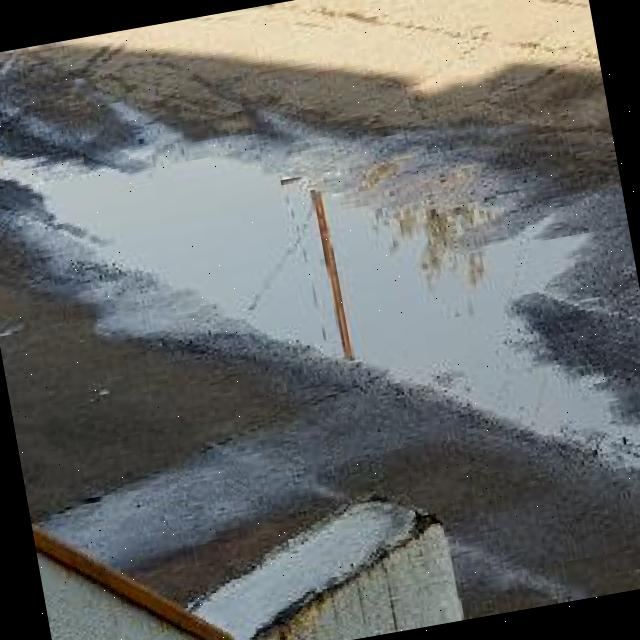stagnation: (0, 85, 640, 469)
